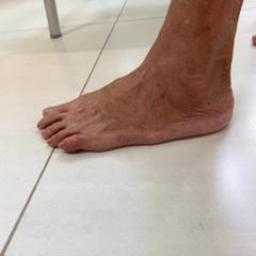Lateral View -Left Foot-: (17, 43, 249, 160)
